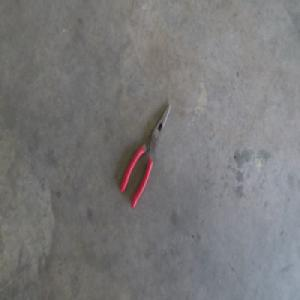Pliers: (117, 102, 170, 208)
